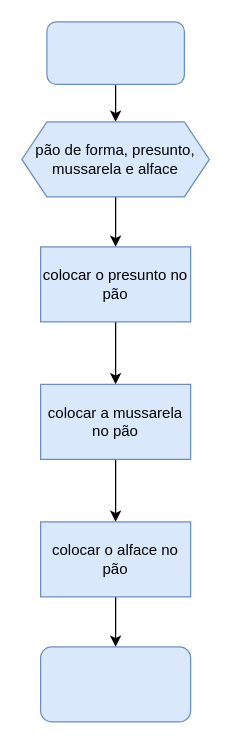
Image size: 231x744. Some labels were removed from this diagram. Here are the shapes that lost their labels. From the top down, the centre of each, then its label:
At pixel 115 52: "inicío".
At pixel 115 684: "fim".
